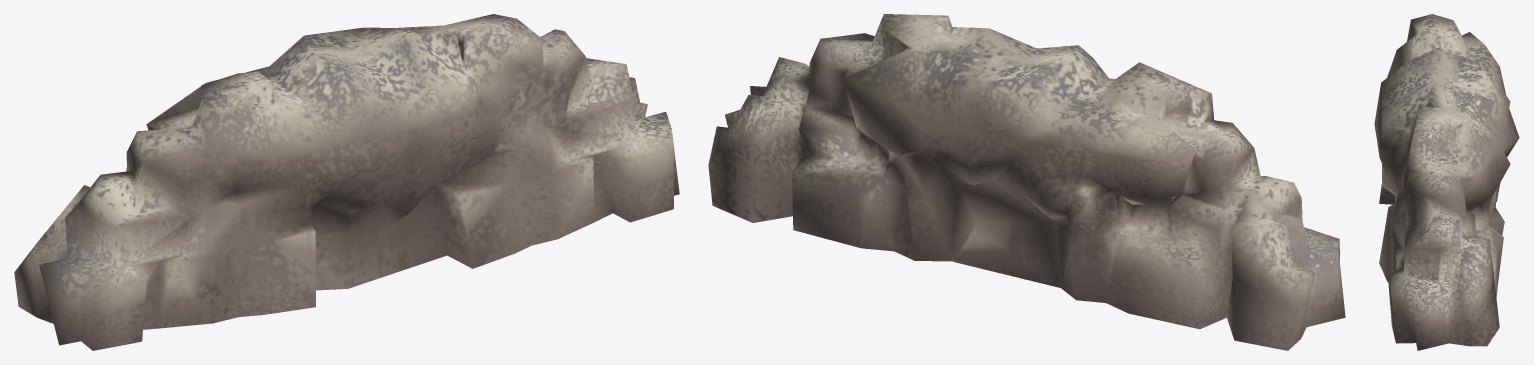
Rendered from Mountain-Range.fbx.
3 renders of one model, left to right at view 1: azimuth 30°, elevation 25°; view 2: azimuth 150°, elevation 25°; view 3: azimuth 270°, elevation 25°, orthographic. The views are drawn at different scales.
Parts seen in each view (by area): view 1: Mountain-Range; view 2: Mountain-Range; view 3: Mountain-Range.
Part boxes in pixels (box(x1,y1,x2,y2)): Mountain-Range: box(14, 14, 679, 350); Mountain-Range: box(708, 14, 1345, 350); Mountain-Range: box(1374, 14, 1519, 350).
Bounding box in the file's own units: 35.66 × 11.86 × 9.21.
Materials: 1 (1 with a texture image).
